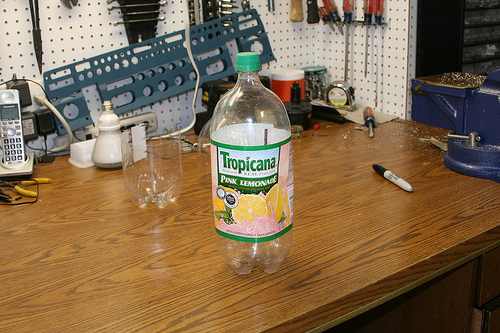emptybottle: (210, 52, 293, 275)
